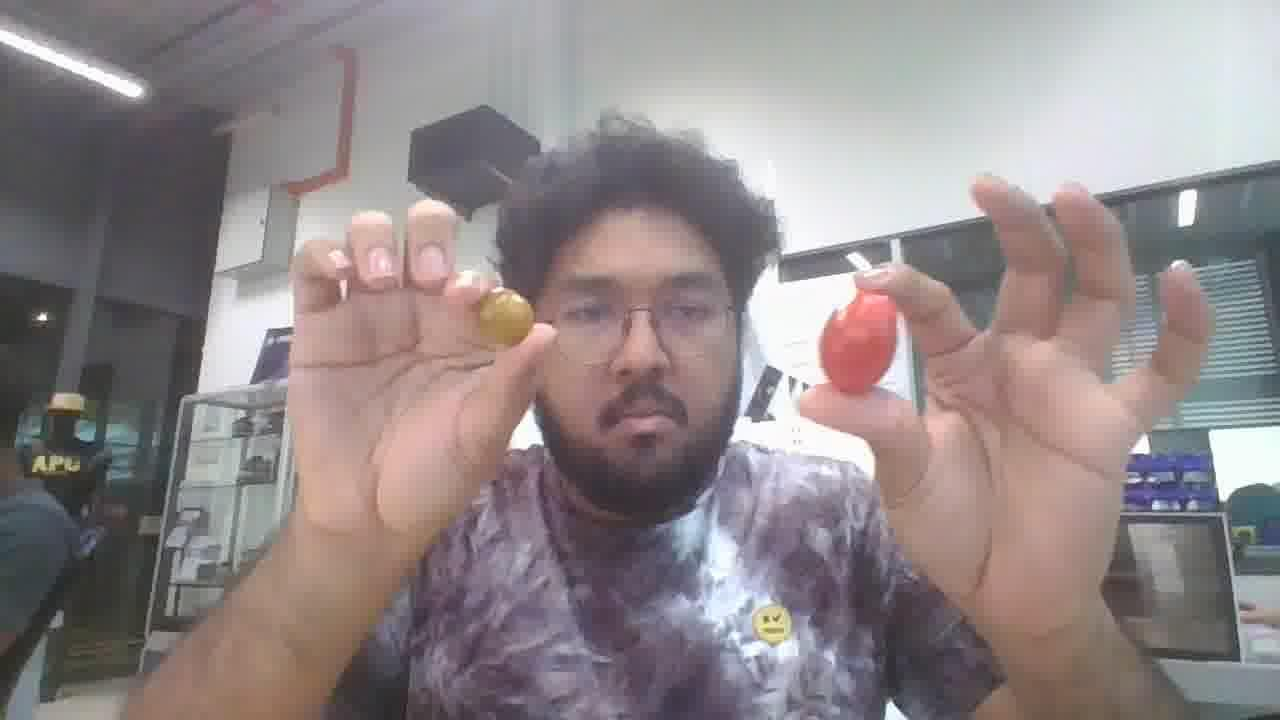red_cherry_tomato: (819, 291, 897, 394)
yellow_cherry_tomato: (480, 288, 533, 345)
